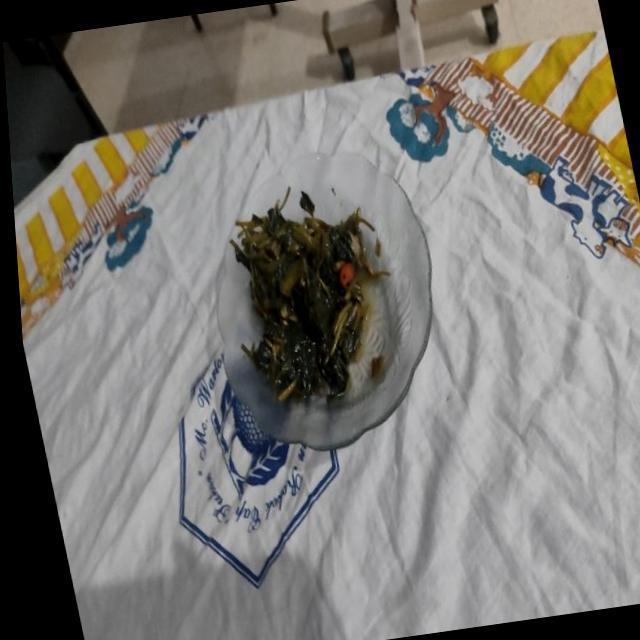tumis_kangkung: (230, 188, 390, 402)
